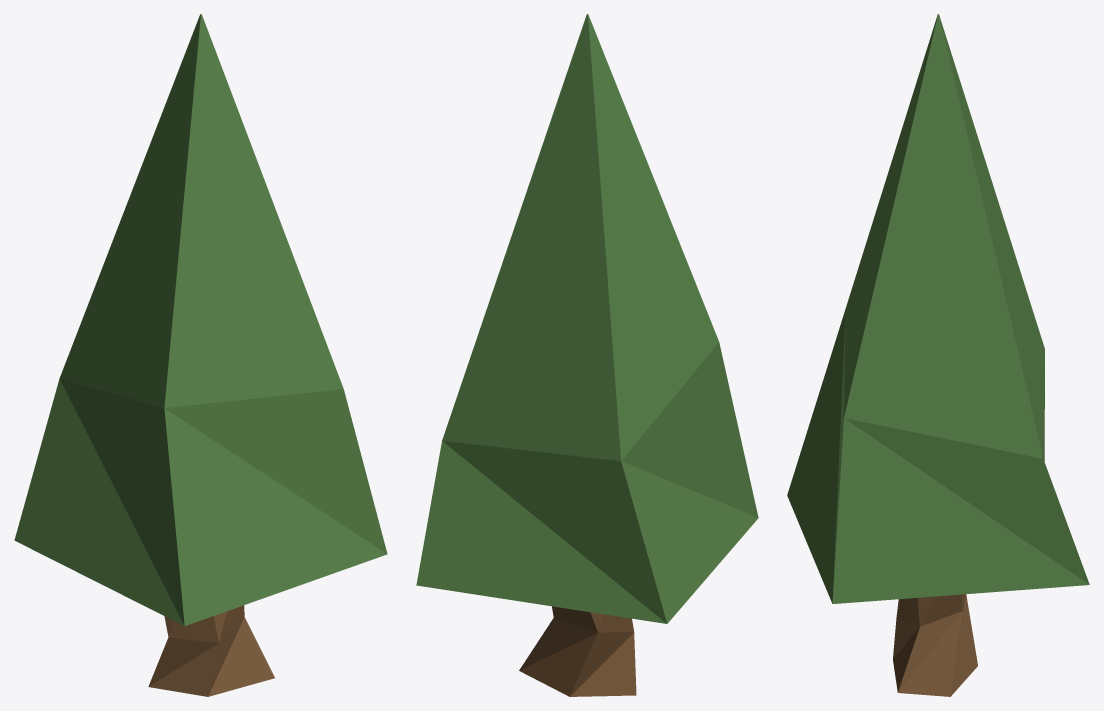
The model's file is tree3d-043.glb.
3 renders of one model, left to right at view 1: azimuth 30°, elevation 25°; view 2: azimuth 150°, elevation 25°; view 3: azimuth 270°, elevation 25°, orthographic. The views are drawn at different scales.
Visible parts, largest first — view 1: tree3d-043; view 2: tree3d-043; view 3: tree3d-043.
Boxes of the visible parts, left/top/right/bottom form: tree3d-043: left=14, top=14, right=387, bottom=696; tree3d-043: left=416, top=14, right=758, bottom=696; tree3d-043: left=787, top=14, right=1089, bottom=696.
Bounding box in the file's own units: 0.4202 × 1 × 0.4202.
